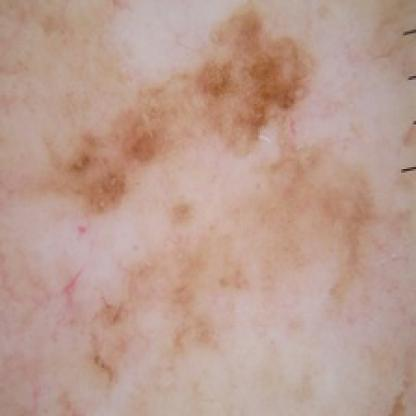malignant: (63, 24, 325, 191)
